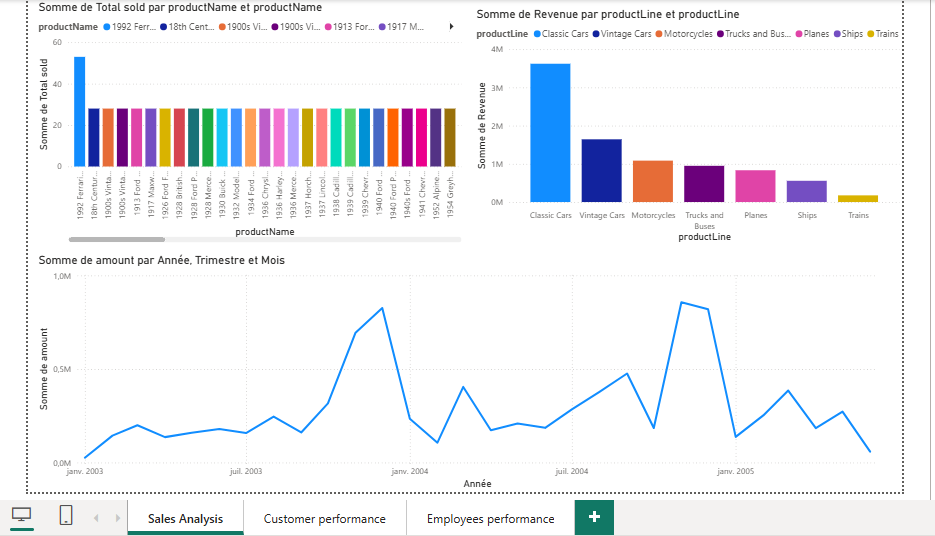

This screenshot's page, from the dashboard's own definition file:
{"tool":"powerbi","page":{"name":"Sales Analysis","canvas":[1280,720],"ordinal":0},"visuals":[{"type":"columnChart","fields":{"Category":["Products.productName"],"Y":["Sum(Products.Total sold)"],"Series":["Products.productName"]},"box":[10.2,0,629.3,360],"z":0},{"type":"columnChart","fields":{"Category":["Productlines.productLine"],"Y":["Sum(Productlines.Revenue)"],"Series":["Productlines.productLine"]},"box":[651.2,10.2,629.3,349.8],"z":1000},{"type":"lineChart","fields":{"Category":["Payments.paymentDate.Variation.Hiérarchie de dates.Année","Payments.paymentDate.Variation.Hiérarchie de dates.Trimestre","Payments.paymentDate.Variation.Hiérarchie de dates.Mois"],"Y":["Sum(Payments.amount)"]},"box":[10.2,370.2,1254.1,349.8],"z":2000}]}

Visuals, with their boxes on the page's 1280x720 design canvas (x1, y1, x2, y2). These are canvas units, not pixel positions in the 935x536 screenshot, which may show the page scaled, cropped or inside an application window:
columnChart - Products.productName x Sum(Products.Total sold): l=10, t=0, r=640, b=360
columnChart - Productlines.productLine x Sum(Productlines.Revenue): l=651, t=10, r=1280, b=360
lineChart - Payments.paymentDate.Variation.Hiérarchie de dates.Année x Payments.paymentDate.Variation.Hiérarchie de dates.Trimestre: l=10, t=370, r=1264, b=720
